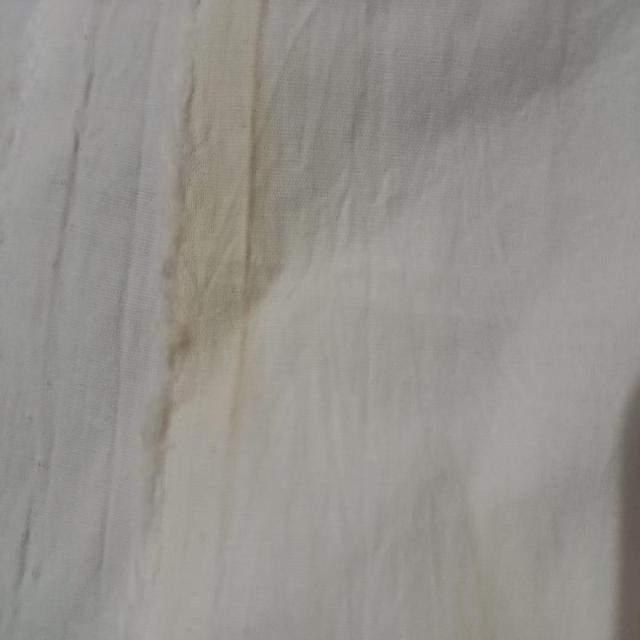stain: (146, 7, 280, 448)
